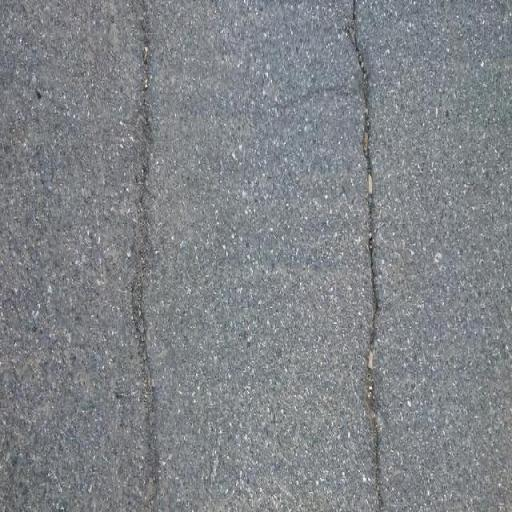moderate crack: (349, 6, 381, 499), (130, 14, 159, 504), (1, 420, 84, 512), (2, 334, 69, 419), (138, 457, 160, 510), (112, 376, 150, 404), (7, 450, 23, 470), (210, 455, 219, 476), (337, 185, 347, 199)
severe crack: (144, 1, 365, 299), (148, 292, 376, 512), (374, 0, 512, 336), (372, 288, 509, 508), (367, 388, 384, 507), (364, 202, 377, 313), (365, 313, 378, 368), (363, 361, 376, 398), (132, 163, 148, 189), (133, 324, 147, 347), (371, 294, 381, 313), (367, 236, 373, 249), (148, 382, 155, 392)
